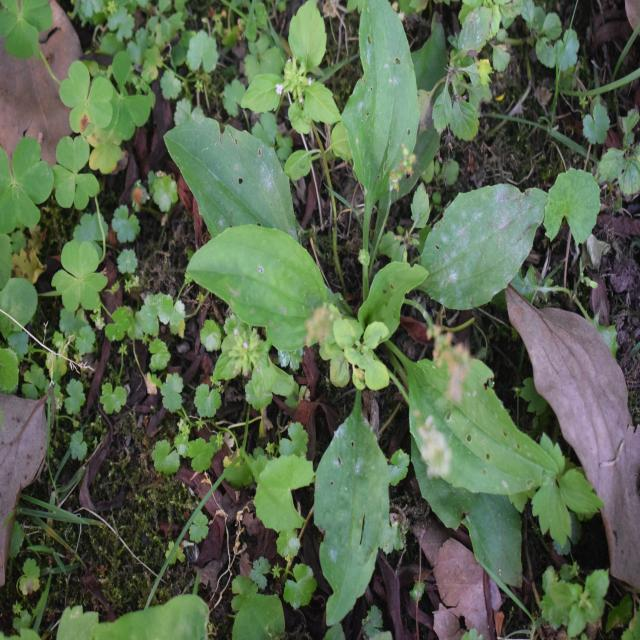plantain: (184, 48, 552, 551)
